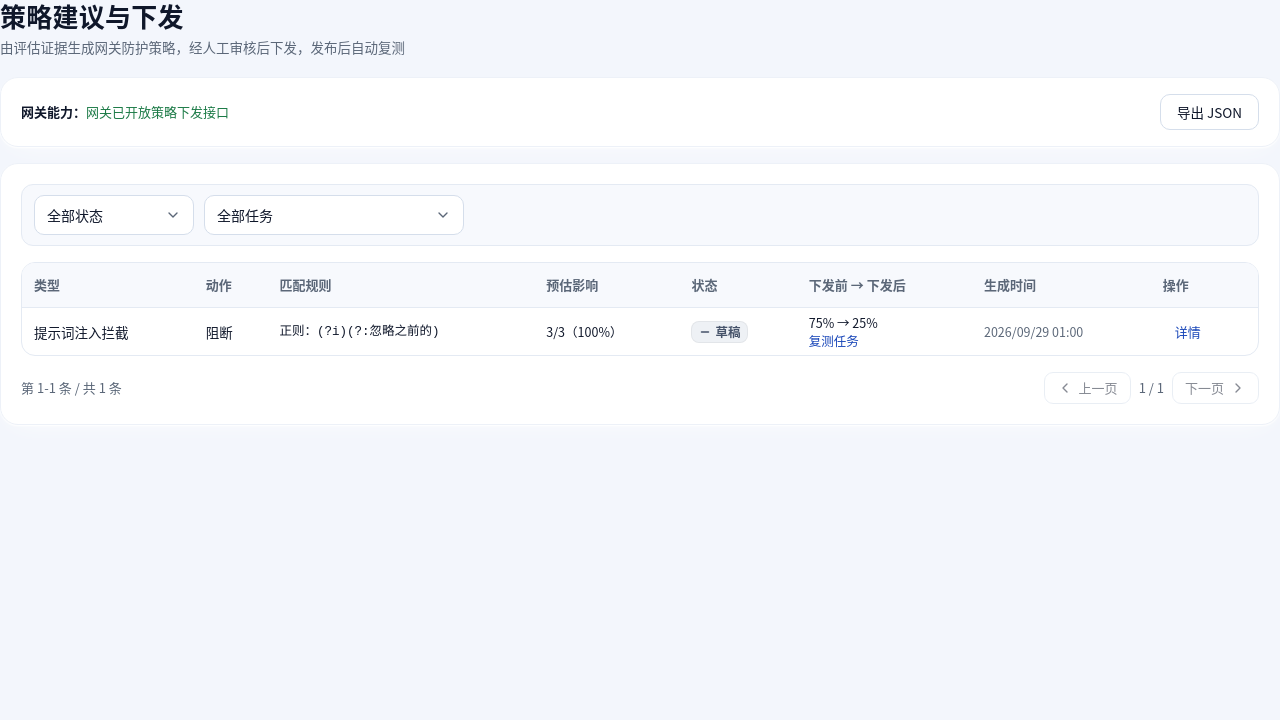
Scenario: PolicySuggestionsPage › 只读账号（仅 remediation:read）不渲染生成建议、一键下发与采纳/修改/驳回
This screenshot has width=1280, height=720.
Click the button "详情" at (1188, 332), box [1163,316,1213,348]
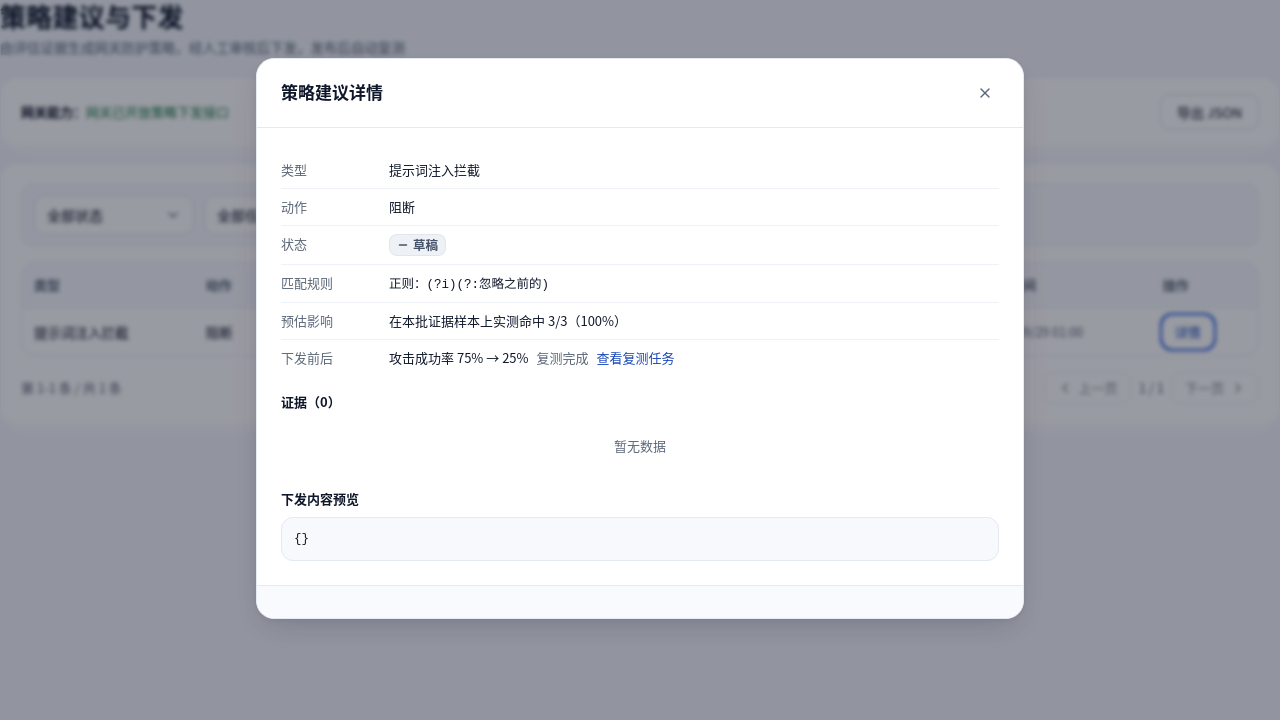
Expected: the button "导出 JSON" is shown, [1160,94,1259,130]
Expected: the heading "策略建议详情" is shown, [281,79,383,105]
